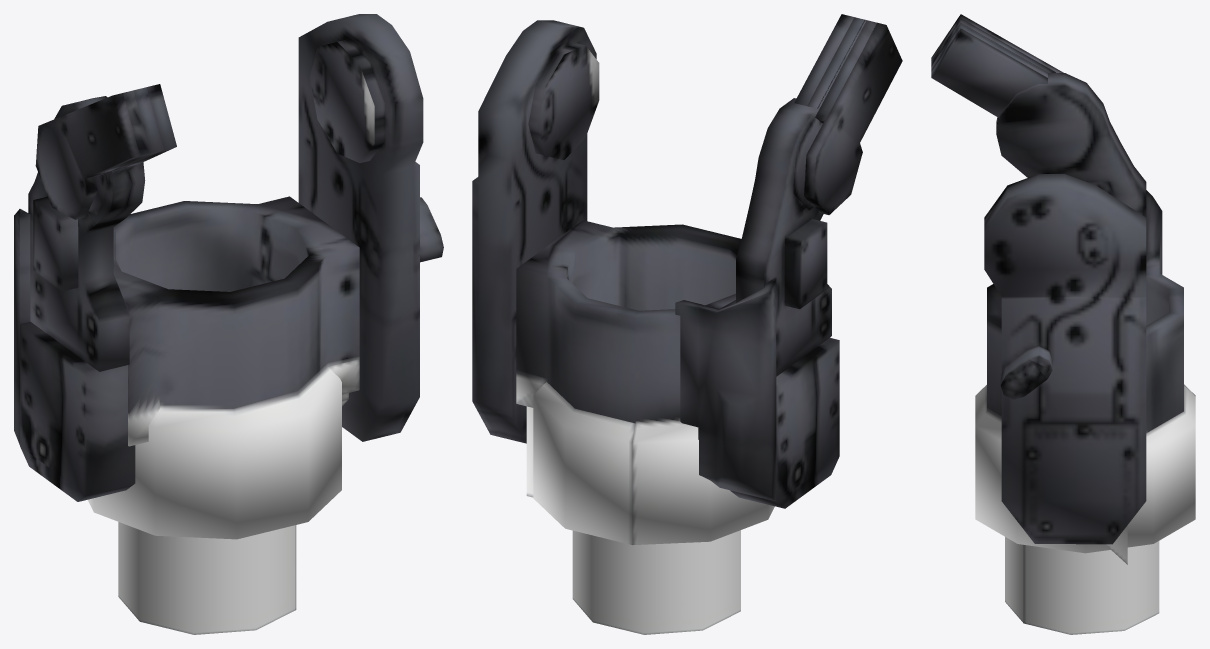
The model's file is r_scap.dae.
3 renders of one model, left to right at view 1: azimuth 30°, elevation 25°; view 2: azimuth 150°, elevation 25°; view 3: azimuth 270°, elevation 25°, orthographic. The views are drawn at different scales.
Visible parts, largest first — view 1: r_scap; view 2: r_scap; view 3: r_scap.
Boxes of the visible parts, box(x1,y1,x2,y2) form: r_scap: box(14, 14, 443, 634); r_scap: box(472, 14, 902, 634); r_scap: box(931, 14, 1195, 634).
Bounding box in the file's own units: 0.1717 × 0.2756 × 0.1279.
1 material, 1 textured.
